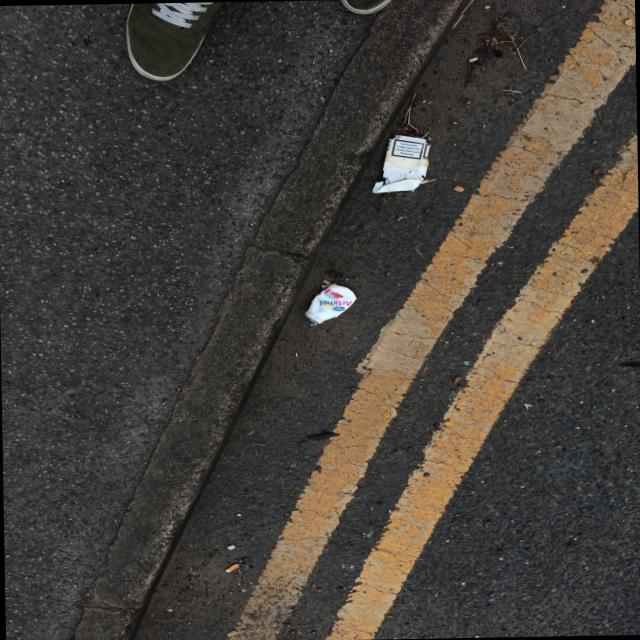less trash: (373, 135, 429, 193), (305, 284, 356, 324)
